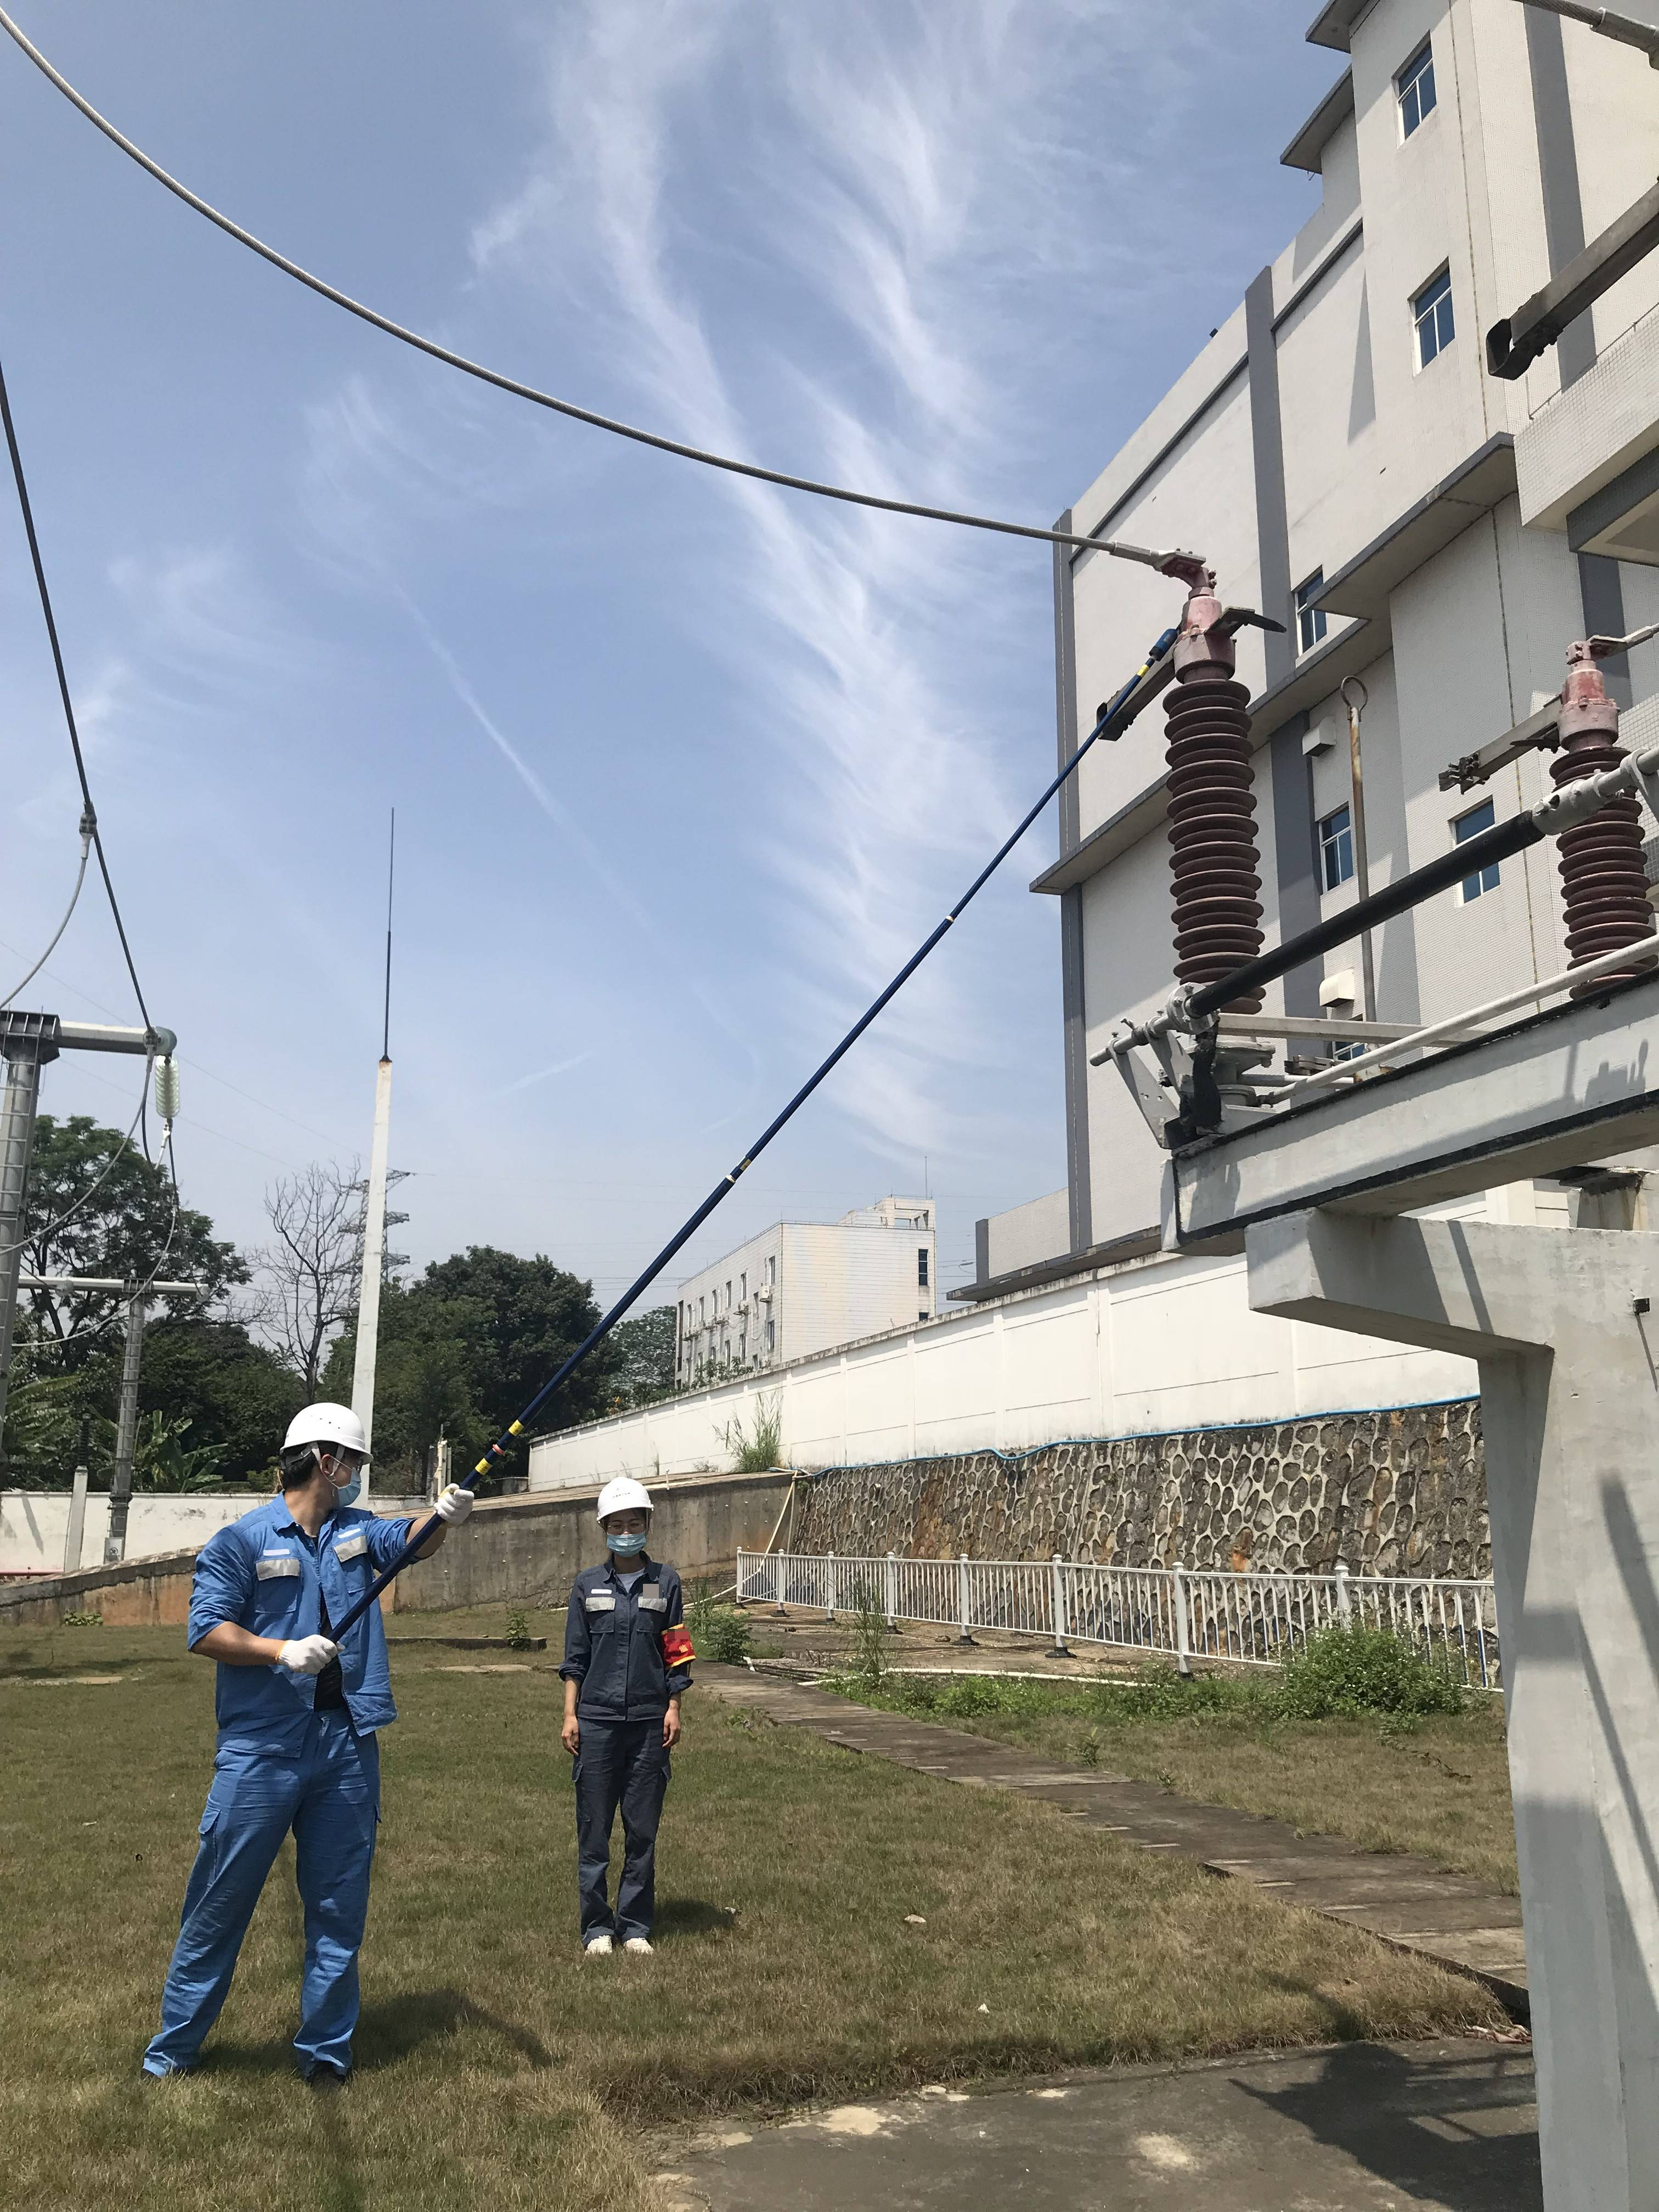downsuit: (153, 1764, 378, 2057), (579, 1752, 673, 1937)
upsuit: (192, 1493, 413, 1738), (556, 1547, 702, 1731)
wrongtop: (181, 1592, 293, 1684), (544, 1655, 598, 1747)
